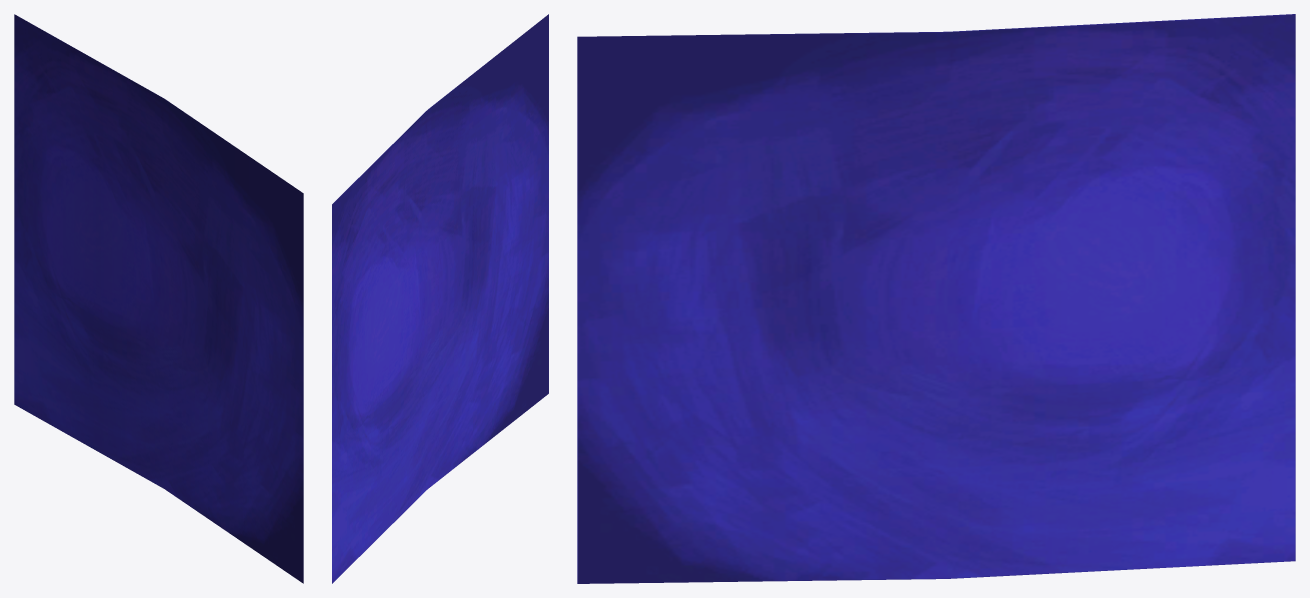
File: SWORDLIGHT20_PS-AREA05-RANGE05_02.fbx
The picture shows the model from 3 angles, left to right: view 1: azimuth 30°, elevation 25°; view 2: azimuth 150°, elevation 25°; view 3: azimuth 270°, elevation 25°; orthographic projection. The views are drawn at different scales.
Visible parts, largest first — view 1: SWORDLIGHT20_PS-AREA05-RANGE05_02; view 2: SWORDLIGHT20_PS-AREA05-RANGE05_02; view 3: SWORDLIGHT20_PS-AREA05-RANGE05_02.
Part boxes in pixels (x1,y1,x2,y2): SWORDLIGHT20_PS-AREA05-RANGE05_02: (14,14,303,583); SWORDLIGHT20_PS-AREA05-RANGE05_02: (332,14,548,583); SWORDLIGHT20_PS-AREA05-RANGE05_02: (577,14,1295,583).
Bounding box in the file's own units: 28670 × 321356 × 382390.
Materials: 1 (1 with a texture image).
